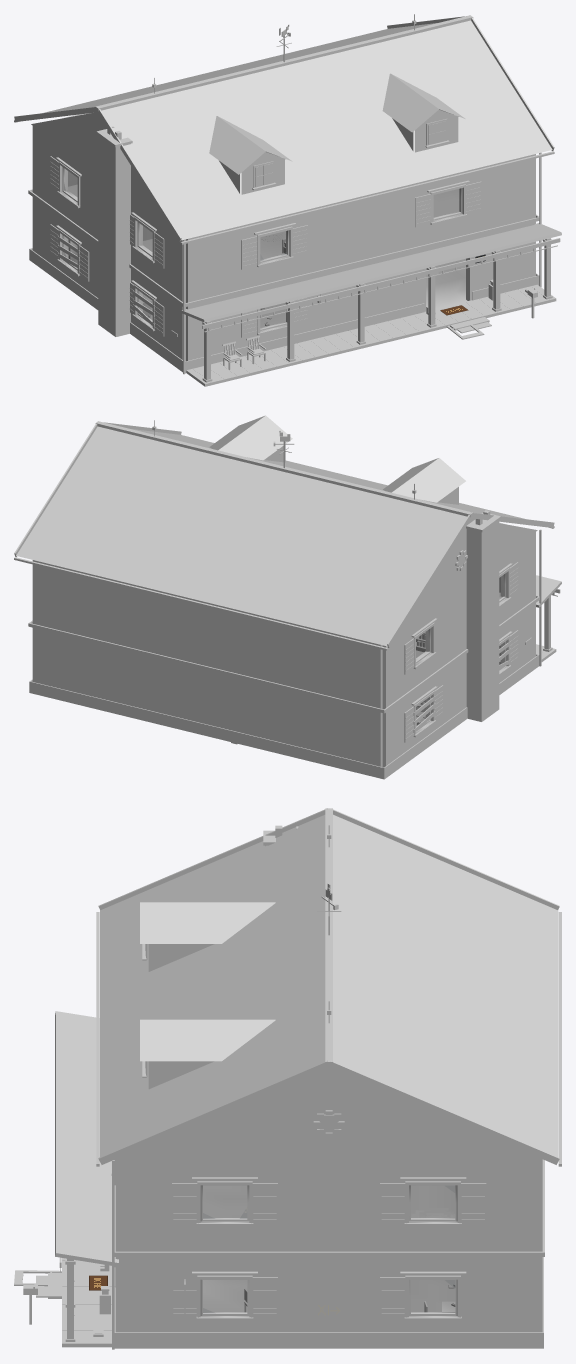
Rendered from farmhouse.glb.
3 renders of one model, top to bottom at view 1: azimuth 30°, elevation 25°; view 2: azimuth 150°, elevation 25°; view 3: azimuth 270°, elevation 25°, orthographic. The views are drawn at different scales.
Parts seen in each view (by area): view 1: farmhouse; view 2: farmhouse; view 3: farmhouse.
Boxes of the visible parts, x1=… form: farmhouse: x1=14, y1=14, x2=561, y2=386; farmhouse: x1=14, y1=415, x2=561, y2=779; farmhouse: x1=14, y1=808, x2=561, y2=1349.
Size of the model in its own units: 17.55 by 11.16 by 15.79.
Materials: 4 (3 with a texture image).
